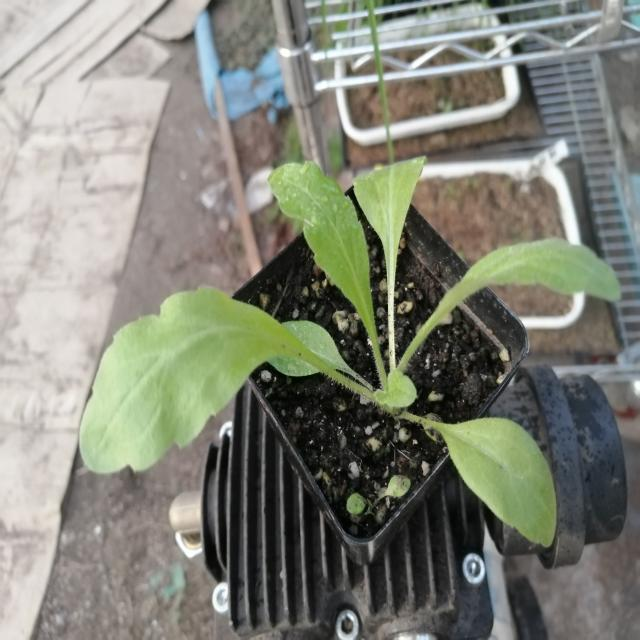horseweed: (73, 132, 596, 531)
